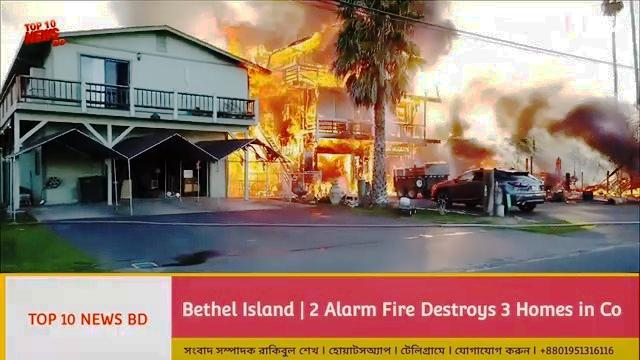fire: (244, 36, 326, 93), (251, 109, 316, 160), (318, 142, 374, 181)
smoke: (553, 97, 640, 157)
